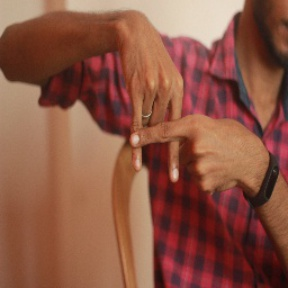H: (106, 79, 212, 193)
